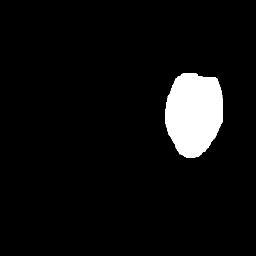mass: (169, 76, 222, 152)
